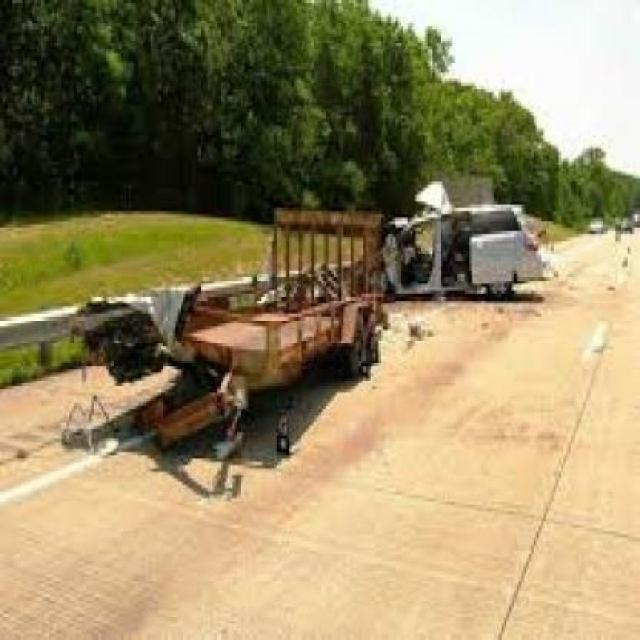accident: (362, 177, 583, 346)
